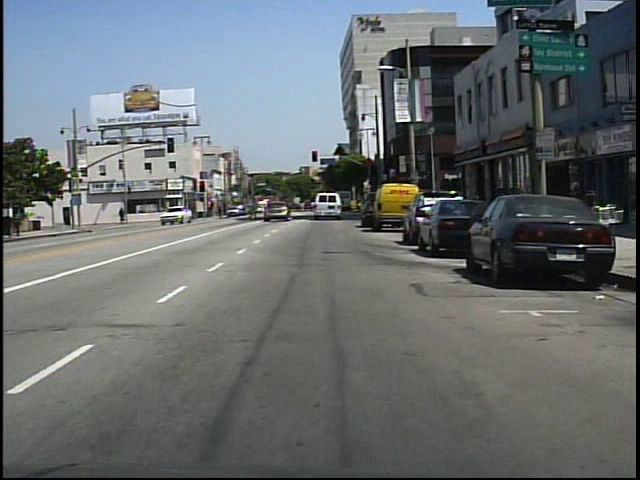person: (249, 193, 266, 222), (119, 206, 127, 224)
